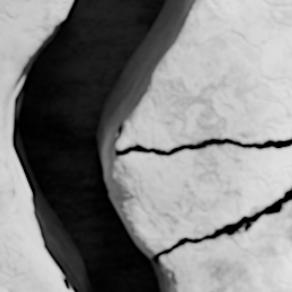broken_brick: (117, 0, 291, 149), (110, 145, 291, 255), (0, 0, 68, 291), (160, 202, 291, 291)
crack: (1, 0, 291, 291)
